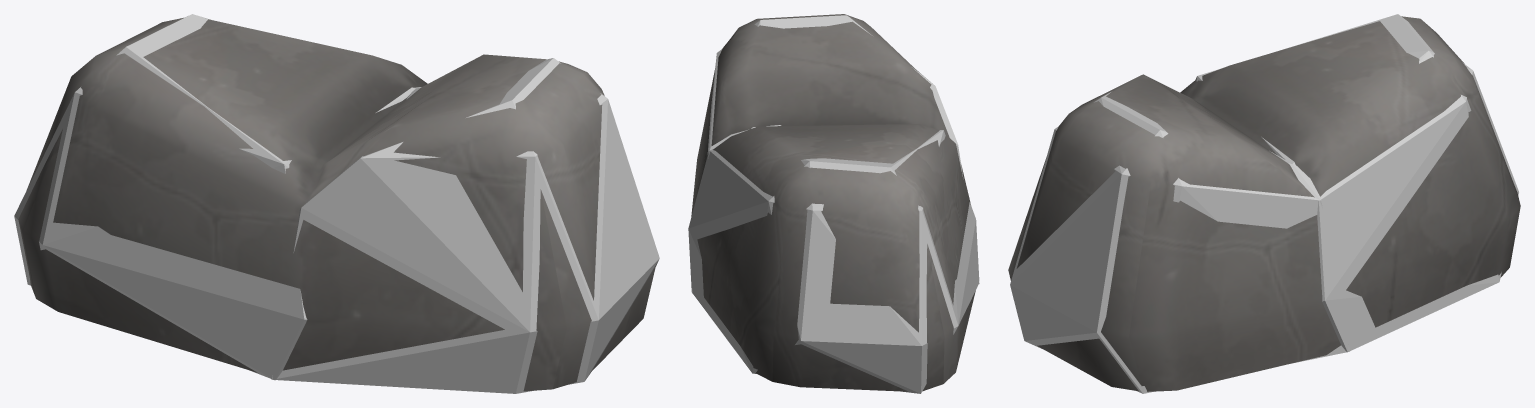
The model's file is SM_Stones01_2.fbx.
3 views of the same model, side by side, from view 1: azimuth 30°, elevation 25°; view 2: azimuth 150°, elevation 25°; view 3: azimuth 270°, elevation 25° (orthographic). The views are drawn at different scales.
Parts seen in each view (by area): view 1: SM_Stones01_2, SM_Stones01_2_ConvexHulls; view 2: SM_Stones01_2, SM_Stones01_2_ConvexHulls; view 3: SM_Stones01_2, SM_Stones01_2_ConvexHulls.
Part boxes in pixels (x1=…): SM_Stones01_2: x1=18, y1=17, x2=655, y2=391; SM_Stones01_2_ConvexHulls: x1=14, y1=14, x2=659, y2=393; SM_Stones01_2: x1=691, y1=14, x2=975, y2=391; SM_Stones01_2_ConvexHulls: x1=688, y1=15, x2=979, y2=393; SM_Stones01_2: x1=1008, y1=16, x2=1520, y2=391; SM_Stones01_2_ConvexHulls: x1=1010, y1=14, x2=1518, y2=393.
Size of the model in its own units: 146 by 157 by 78.21.
2 materials, 1 textured.
